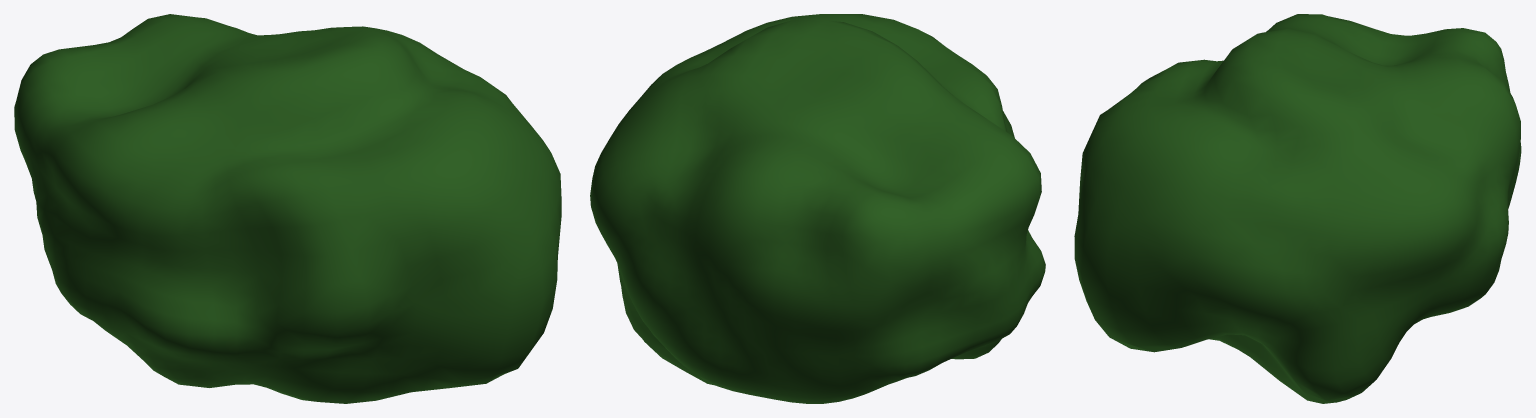
File: ToxicWaste.fbx
3 renders of one model, left to right at view 1: azimuth 30°, elevation 25°; view 2: azimuth 150°, elevation 25°; view 3: azimuth 270°, elevation 25°, orthographic. The views are drawn at different scales.
Parts seen in each view (by area): view 1: Cube; view 2: Cube; view 3: Cube.
Boxes of the visible parts, x1,y1,x2,y2 form: Cube: [14, 14, 561, 403]; Cube: [590, 14, 1045, 403]; Cube: [1074, 14, 1521, 403].
Bounding box in the file's own units: 200 × 155 × 200.
